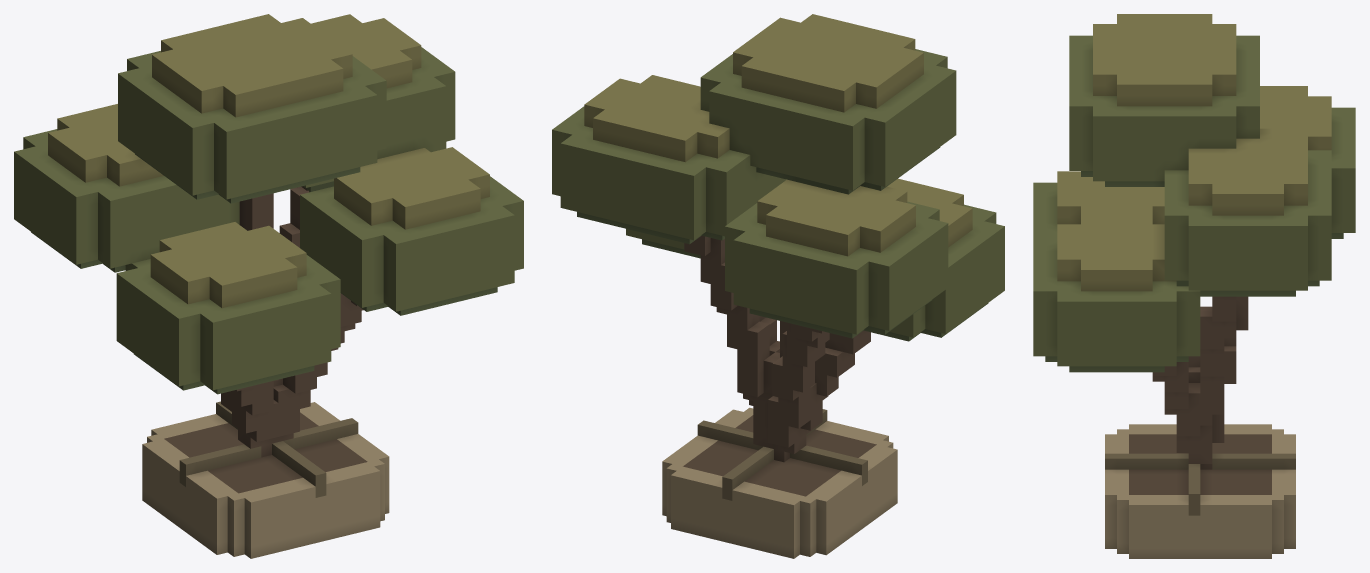
File: elderberry_packed_autumn_picked.glb
3 views of the same model, side by side, from view 1: azimuth 30°, elevation 25°; view 2: azimuth 150°, elevation 25°; view 3: azimuth 270°, elevation 25° (orthographic). The views are drawn at different scales.
Visible parts, largest first — view 1: VoxelVisual; view 2: VoxelVisual; view 3: VoxelVisual.
Boxes of the visible parts, bbox=[...] form: VoxelVisual: bbox=[14, 14, 523, 558]; VoxelVisual: bbox=[552, 14, 1004, 558]; VoxelVisual: bbox=[1033, 14, 1355, 558].
Size of what is drawn, in the model's own units: 2.12 by 2.62 by 1.69.
